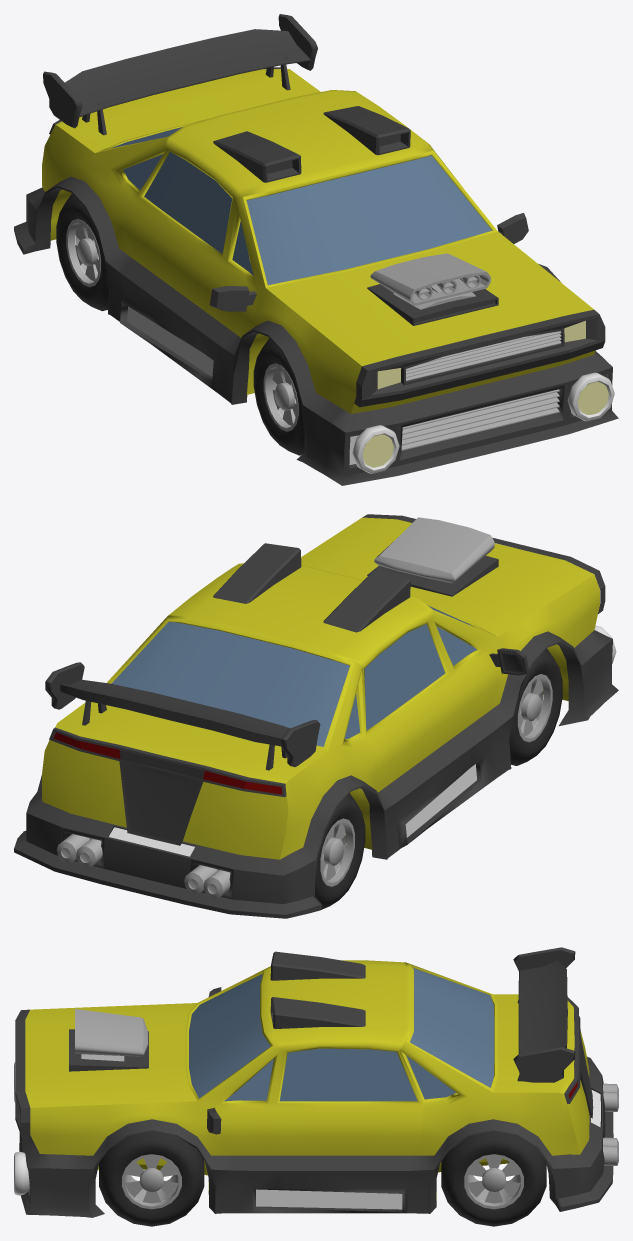
Rendered from muscle_Gold.glb.
The picture shows the model from 3 angles, top to bottom: view 1: azimuth 30°, elevation 25°; view 2: azimuth 150°, elevation 25°; view 3: azimuth 270°, elevation 25°; orthographic projection. The views are drawn at different scales.
Parts seen in each view (by area): view 1: body:PIV, sill4:PIV, frontGlass:PIV, Spoiler4:PIV, frontBlockGrid:PIV, glasseBigR:PIV, engine:PIV, front_down_grid:PIV, airtrap_r:PIV, airtrap_l:PIV, front_up_grid:PIV, tire_rf:PIV (+12 smaller); view 2: body:PIV, sill4:PIV, BackGlassGlass:PIV, Spoiler4:PIV, blockBackLights:PIV, engine:PIV, glasseBigR:PIV, airtrap_r:PIV, airtrap_l:PIV, tire_rf2:PIV, tire_rf:PIV, rim_A_rf:PIV (+10 smaller); view 3: body:PIV, sill4:PIV, BackGlassGlass:PIV, Spoiler4:PIV, glasseBigL:PIV, frontGlass:PIV, tire_lf:PIV, tire_lb:PIV, engine:PIV, sillPartL:PIV, rim_A_lf:PIV, rim_A_lb:PIV (+10 smaller).
Part boxes in pixels (x1,y1,x2,y2): body:PIV: [42, 69, 595, 413]; sill4:PIV: [14, 176, 618, 485]; frontGlass:PIV: [246, 155, 491, 285]; Spoiler4:PIV: [43, 14, 317, 135]; frontBlockGrid:PIV: [354, 309, 605, 407]; glasseBigR:PIV: [144, 152, 232, 253]; engine:PIV: [370, 253, 490, 309]; front_down_grid:PIV: [401, 389, 559, 450]; airtrap_r:PIV: [213, 131, 301, 182]; airtrap_l:PIV: [323, 106, 410, 155]; front_up_grid:PIV: [406, 331, 561, 381]; tire_rf:PIV: [56, 194, 109, 311]; body:PIV: [42, 517, 599, 859]; sill4:PIV: [14, 630, 618, 918]; BackGlassGlass:PIV: [111, 621, 349, 746]; Spoiler4:PIV: [45, 662, 320, 770]; blockBackLights:PIV: [49, 727, 286, 845]; engine:PIV: [374, 517, 494, 583]; glasseBigR:PIV: [364, 624, 444, 730]; airtrap_r:PIV: [323, 567, 410, 632]; airtrap_l:PIV: [213, 543, 301, 603]; tire_rf2:PIV: [509, 648, 562, 765]; tire_rf:PIV: [315, 793, 365, 909]; rim_A_rf:PIV: [517, 674, 552, 742]; body:PIV: [25, 960, 589, 1200]; sill4:PIV: [19, 1056, 613, 1217]; BackGlassGlass:PIV: [410, 967, 494, 1087]; Spoiler4:PIV: [513, 947, 575, 1082]; glasseBigL:PIV: [279, 1048, 417, 1101]; frontGlass:PIV: [189, 974, 270, 1098]; tire_lf:PIV: [99, 1132, 204, 1226]; tire_lb:PIV: [441, 1132, 546, 1226]; engine:PIV: [75, 1009, 148, 1061]; sillPartL:PIV: [256, 1189, 402, 1209]; rim_A_lf:PIV: [122, 1154, 181, 1209]; rim_A_lb:PIV: [464, 1154, 523, 1209].
Bounding box in the file's own units: 177 × 120 × 337.
